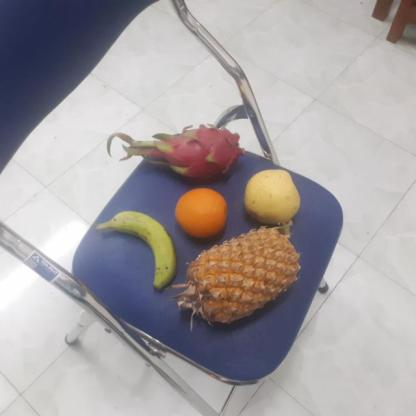banana: (104, 210, 178, 289)
orange: (172, 187, 230, 241)
pear: (242, 167, 303, 226)
pineapple: (182, 228, 296, 320)
pitaya: (145, 125, 240, 184)
